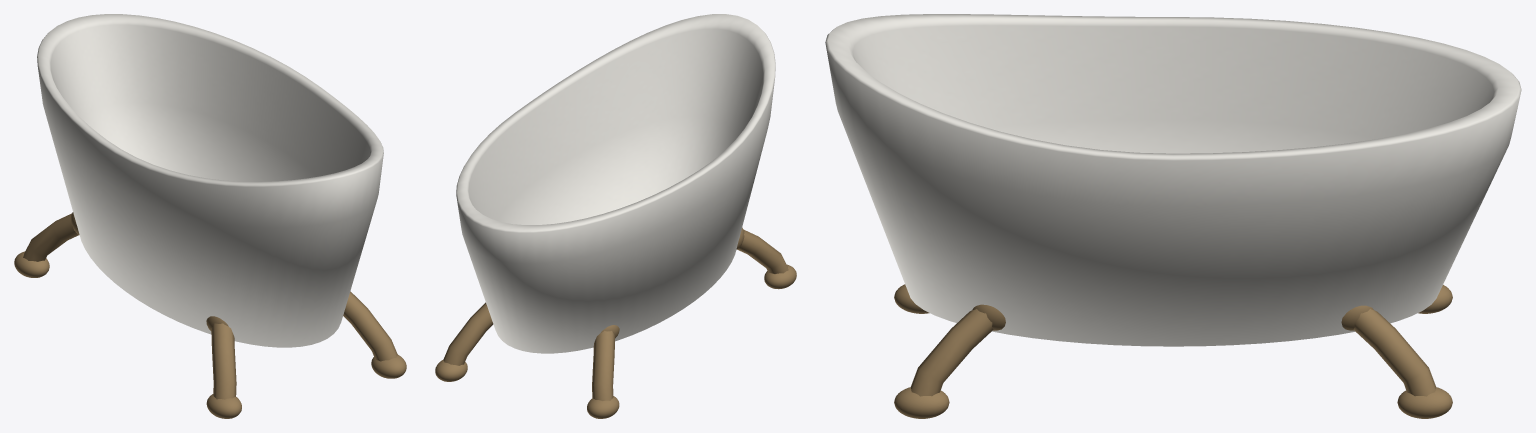
3 views of the same model, side by side, from view 1: azimuth 30°, elevation 25°; view 2: azimuth 150°, elevation 25°; view 3: azimuth 270°, elevation 25° (orthographic). The views are drawn at different scales.
Visible parts, largest first — view 1: Bath | slipper enamel shell, Bath | sculpted claw foot, Bath | sculpted claw foot.002, Bath | sculpted claw foot.001, Bath | claw terminal, Bath | claw terminal.002, Bath | claw terminal.001; view 2: Bath | slipper enamel shell, Bath | sculpted claw foot.001, Bath | sculpted claw foot.003, Bath | sculpted claw foot, Bath | claw terminal.001, Bath | claw terminal.003, Bath | claw terminal; view 3: Bath | slipper enamel shell, Bath | sculpted claw foot.002, Bath | sculpted claw foot.003, Bath | claw terminal.002, Bath | claw terminal.003.
Boxes of the visible parts, x1,y1,x2,y2 form: Bath | slipper enamel shell: (37, 14, 383, 347); Bath | sculpted claw foot: (211, 323, 236, 399); Bath | sculpted claw foot.002: (343, 291, 397, 361); Bath | sculpted claw foot.001: (23, 213, 78, 261); Bath | claw terminal: (206, 394, 241, 418); Bath | claw terminal.002: (371, 355, 406, 378); Bath | claw terminal.001: (14, 251, 49, 277); Bath | slipper enamel shell: (456, 14, 775, 353); Bath | sculpted claw foot.001: (592, 331, 615, 400); Bath | sculpted claw foot.003: (443, 302, 493, 365); Bath | sculpted claw foot: (737, 229, 788, 273); Bath | claw terminal.001: (587, 396, 619, 418); Bath | claw terminal.003: (435, 360, 467, 381); Bath | claw terminal: (764, 264, 796, 289); Bath | slipper enamel shell: (825, 14, 1521, 346); Bath | sculpted claw foot.002: (910, 309, 993, 396); Bath | sculpted claw foot.003: (1353, 309, 1436, 396); Bath | claw terminal.002: (894, 387, 949, 418); Bath | claw terminal.003: (1397, 387, 1452, 418).
Size of the model in its own units: 0.762 by 0.8101 by 1.58.
3 materials, 3 textured.
